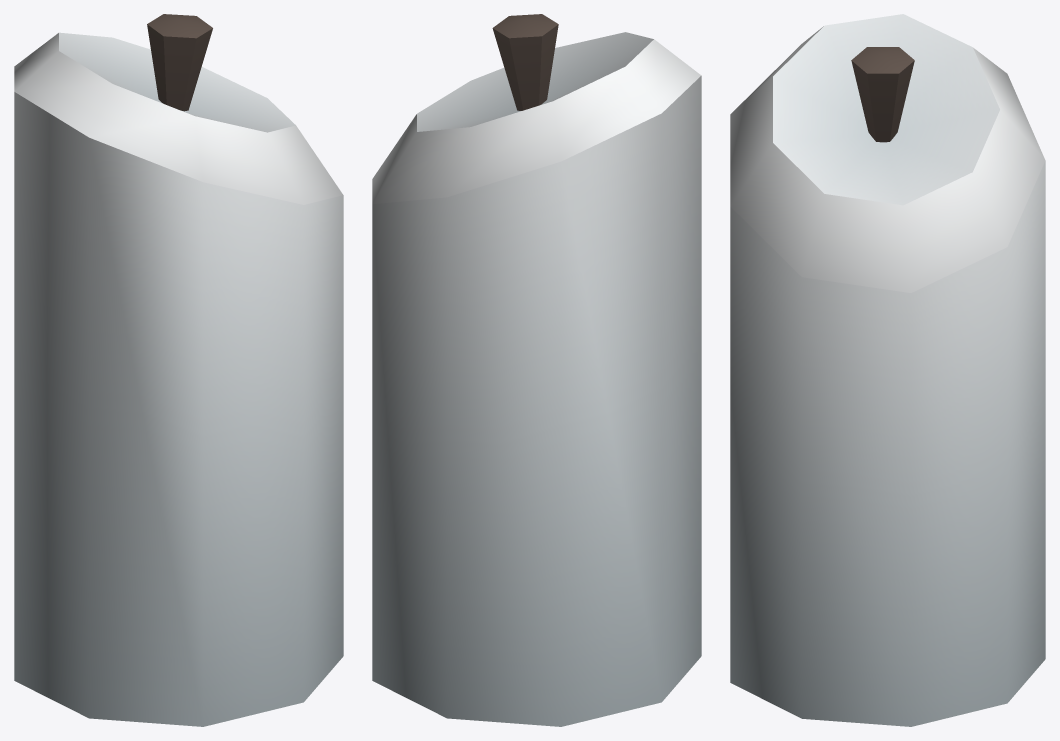
The model's file is candle_melted.gltf.
3 renders of one model, left to right at view 1: azimuth 30°, elevation 25°; view 2: azimuth 150°, elevation 25°; view 3: azimuth 270°, elevation 25°, orthographic. The views are drawn at different scales.
Visible parts, largest first — view 1: candle_melted; view 2: candle_melted; view 3: candle_melted.
Part boxes in pixels (x1,y1,x2,y2): candle_melted: [14, 14, 343, 726]; candle_melted: [372, 14, 701, 726]; candle_melted: [730, 14, 1045, 726].
Size of the model in its own units: 0.3009 by 0.6314 by 0.2964.
1 material, 1 textured.
